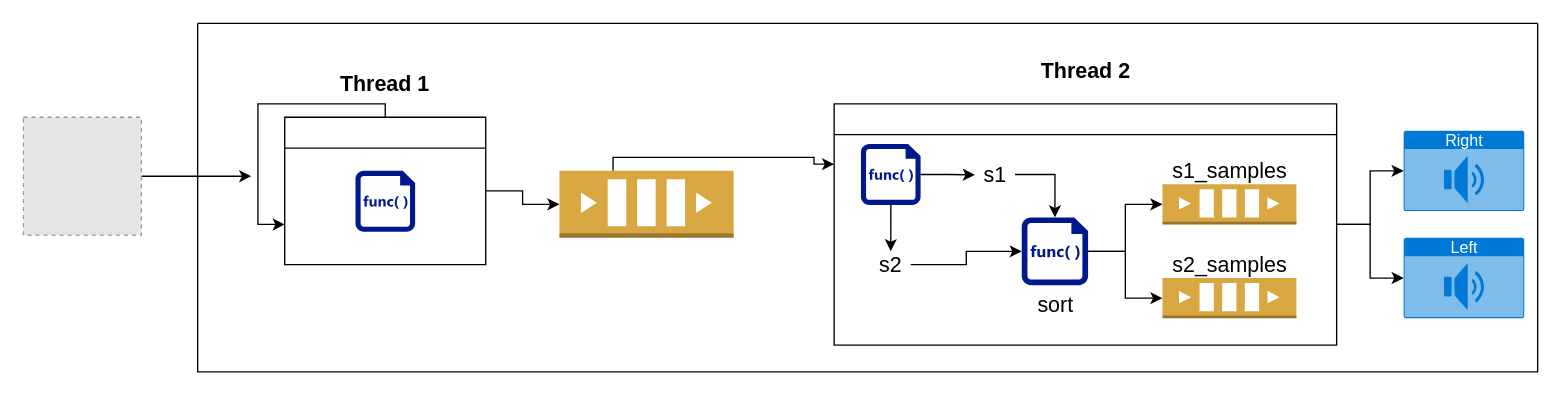
This 1561x395 diagram has some shape labels left out. Grey dashed boxes stand in for pictures. Here are the shapes that lost their labels. From the top down, the box of each, then its label:
(283, 116, 486, 265): Audio_callback
(833, 103, 1337, 345): Separation
